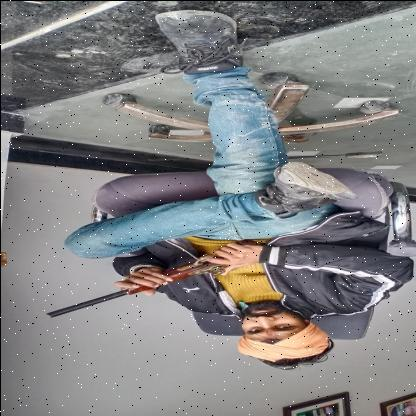rifle: (40, 236, 268, 318)
